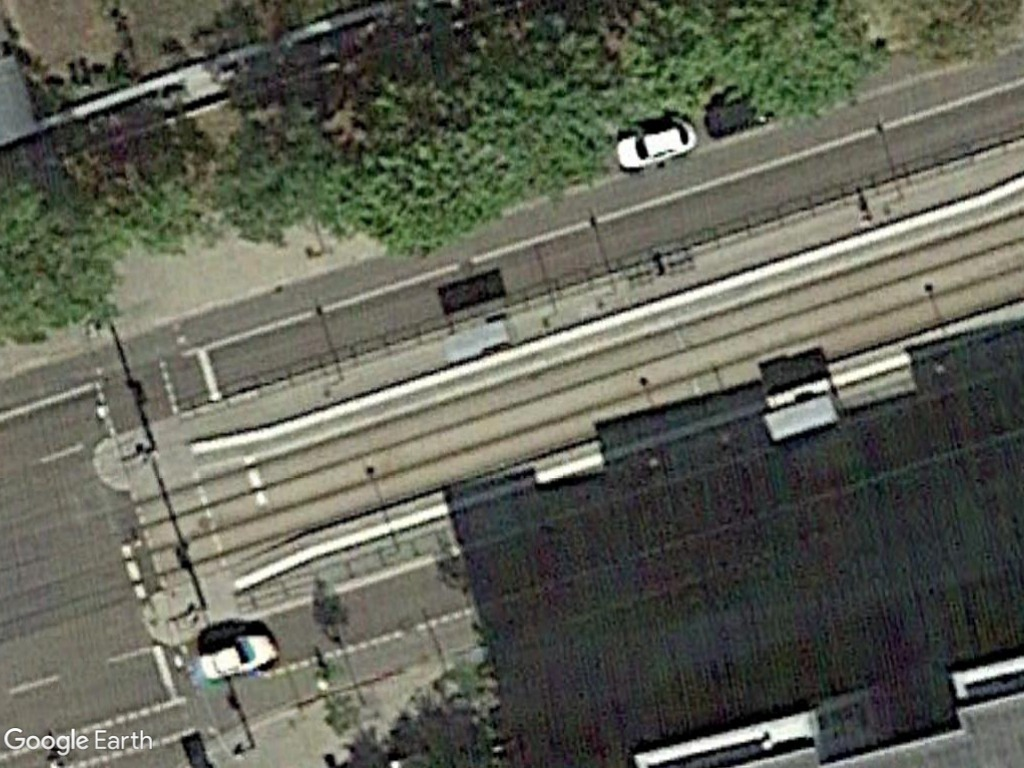car: (189, 628, 285, 692), (608, 116, 701, 175)
